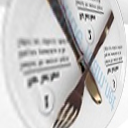Fork: (49, 11, 116, 127)
